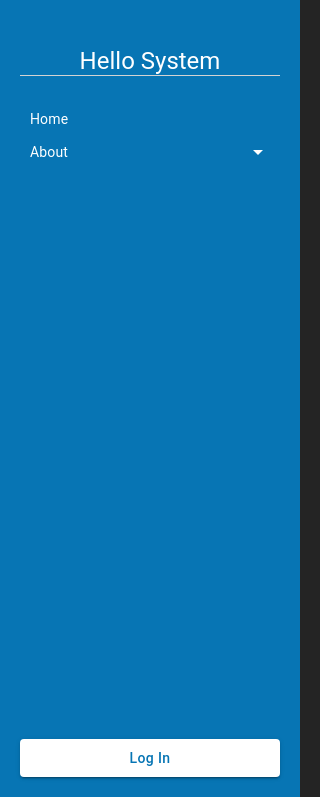
Test: Navigation › navigation to team page
Click the button "About": (49, 152) [20, 135, 280, 169]
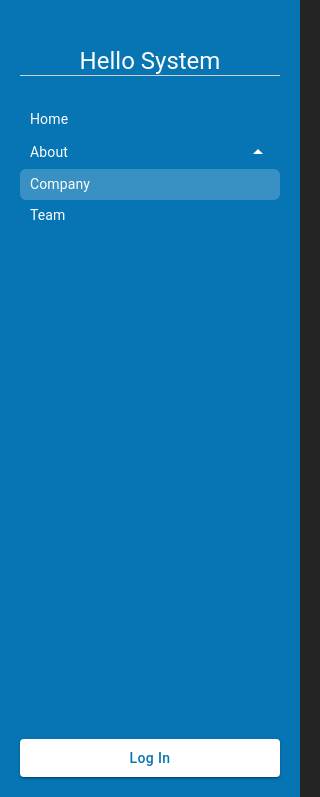
Result: the text "Team" is shown
Click the link "Team": (48, 215) [30, 207, 66, 223]
(page scrolled)
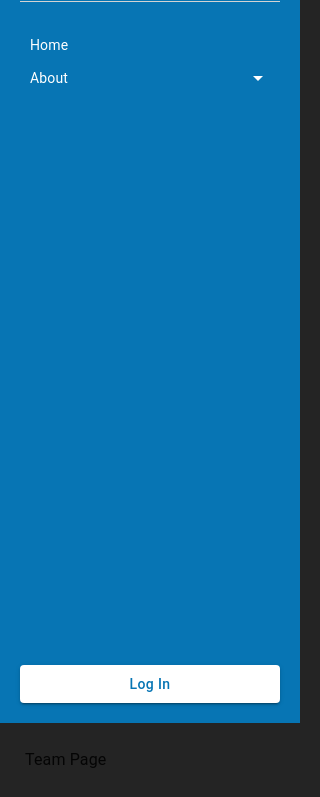
Result: the text "Team Page" is shown at [25, 750, 106, 769]
